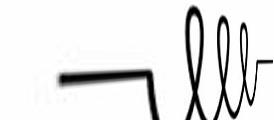inductor: (146, 5, 259, 119)
